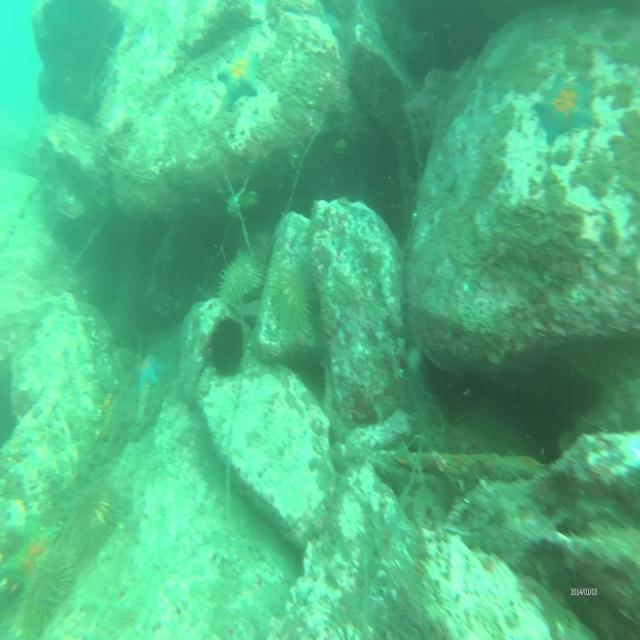echinus: (70, 481, 126, 560), (19, 552, 74, 630), (202, 315, 248, 382), (271, 264, 315, 332), (214, 254, 259, 308)
starfish: (0, 494, 65, 606), (534, 69, 600, 149), (217, 49, 265, 102), (133, 347, 165, 390)
